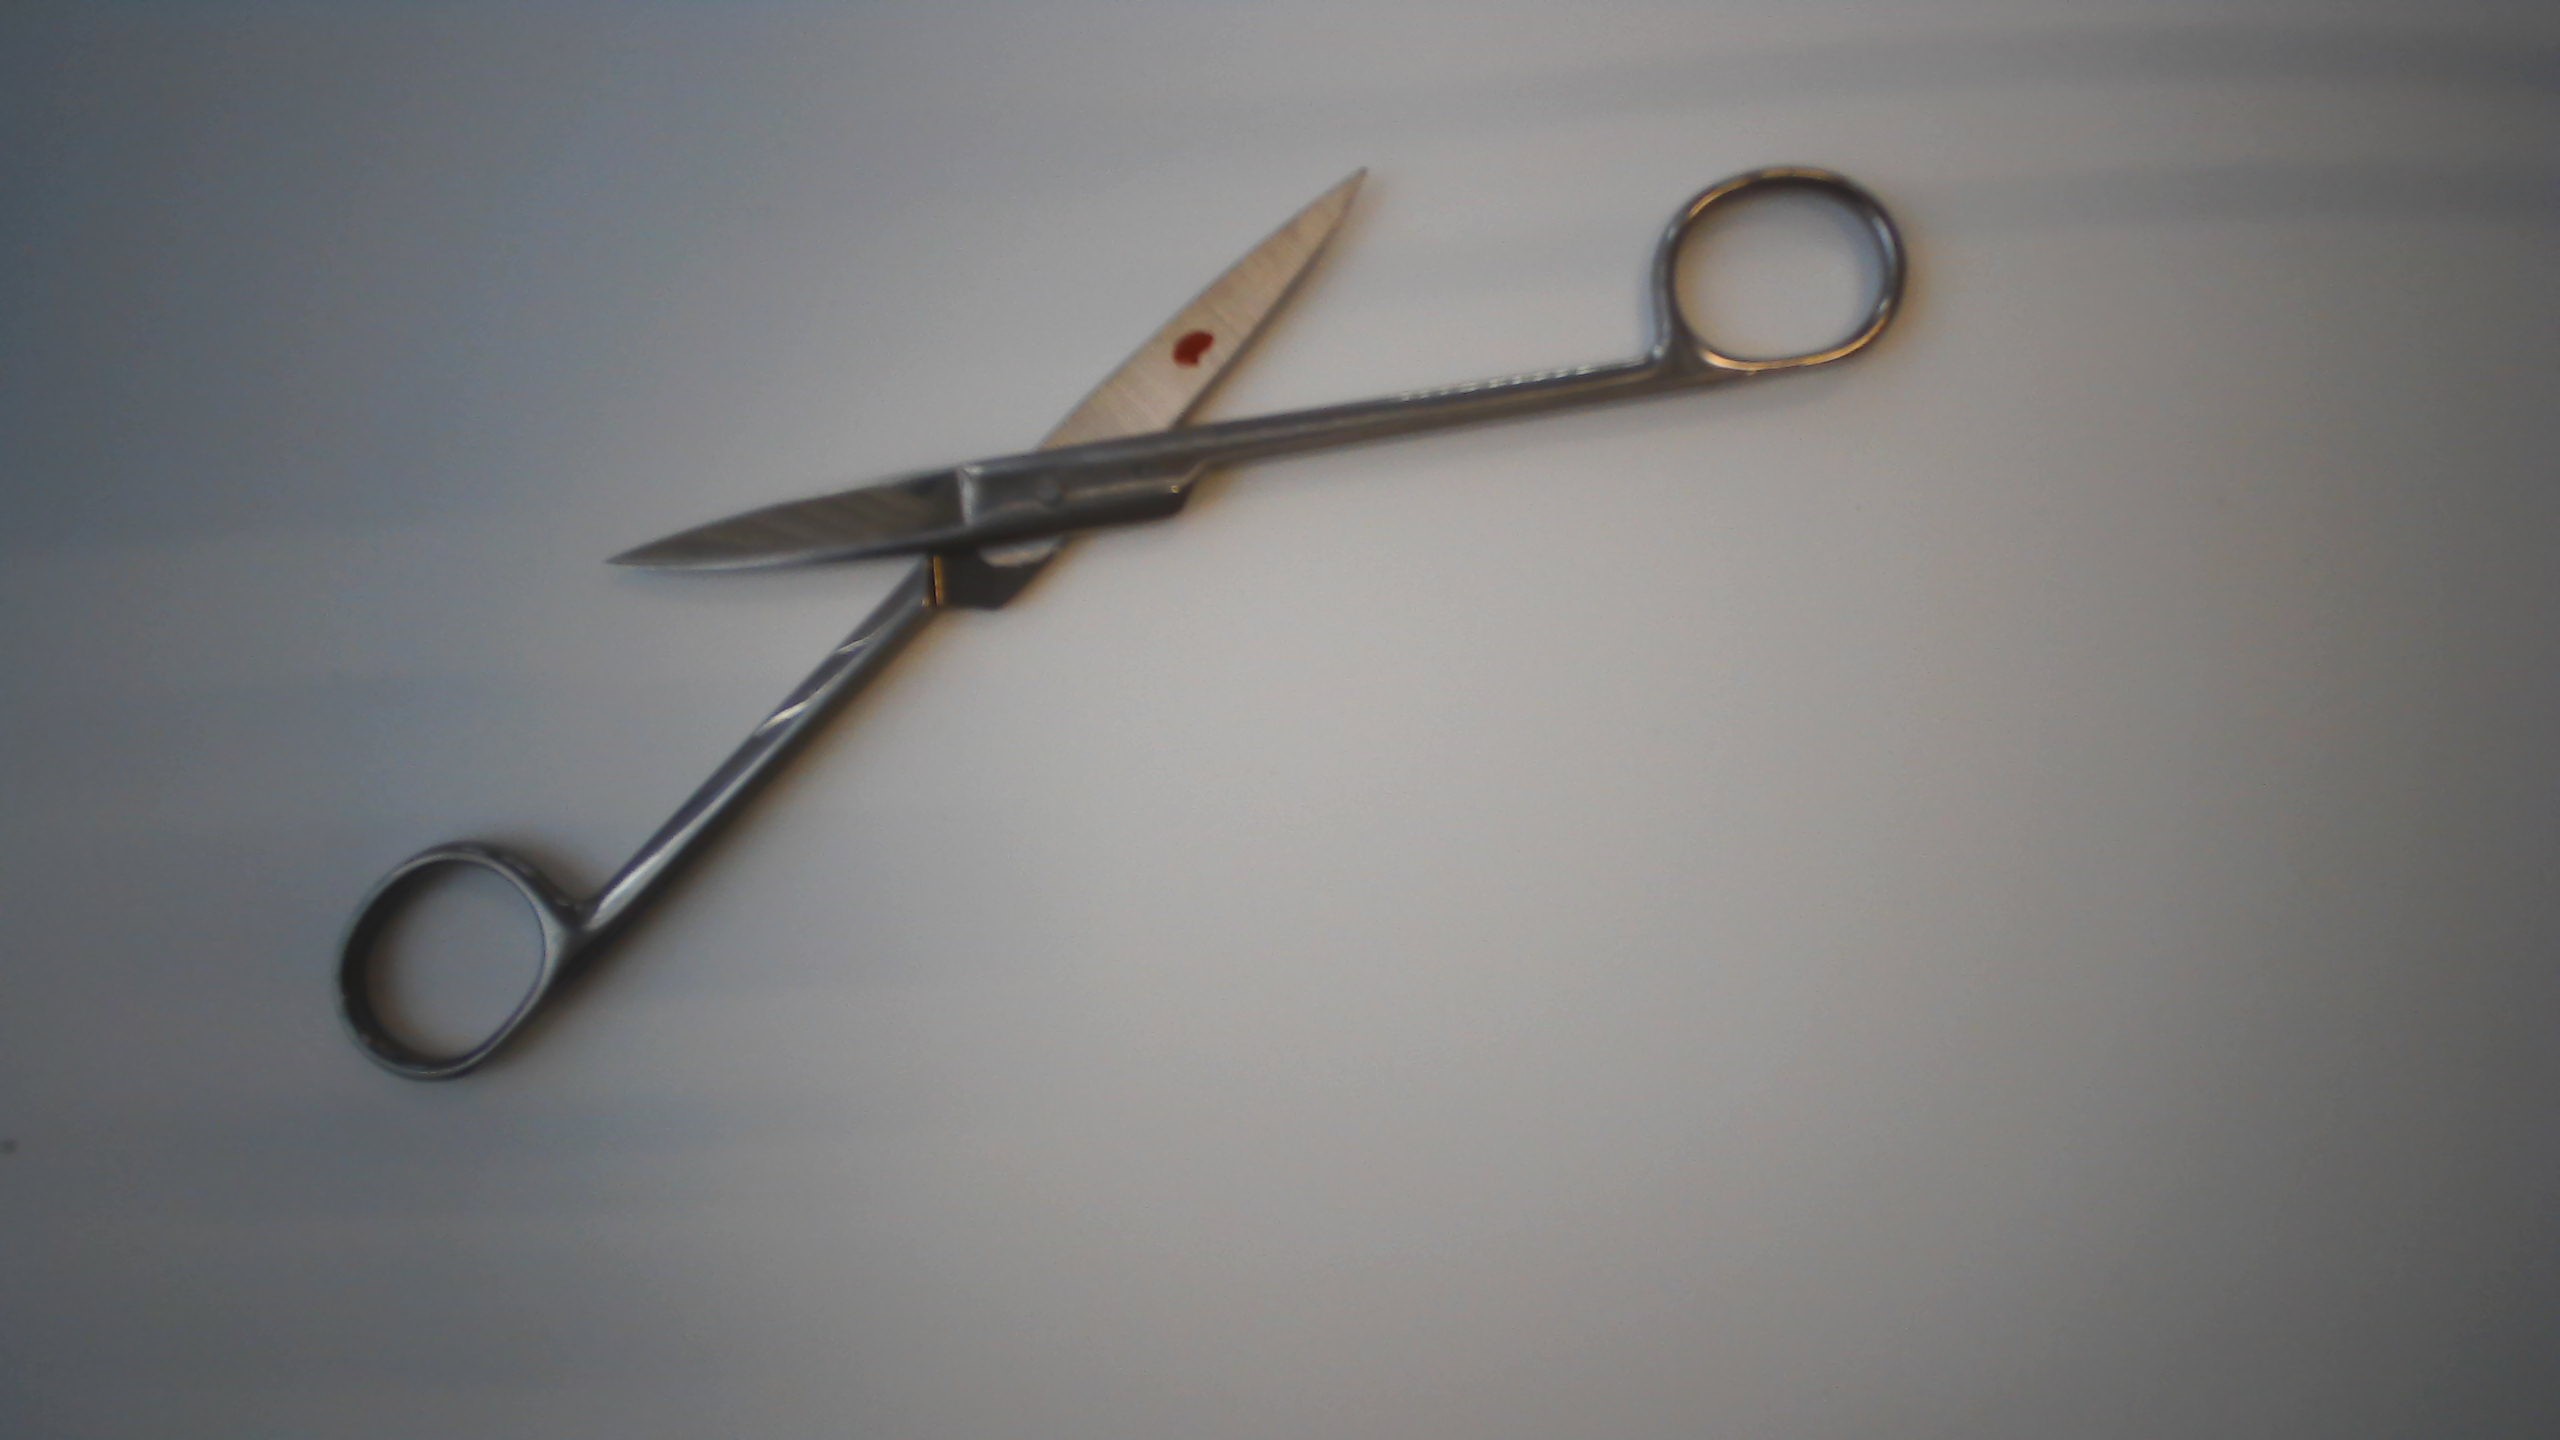Stain: (1166, 324, 1224, 371)
